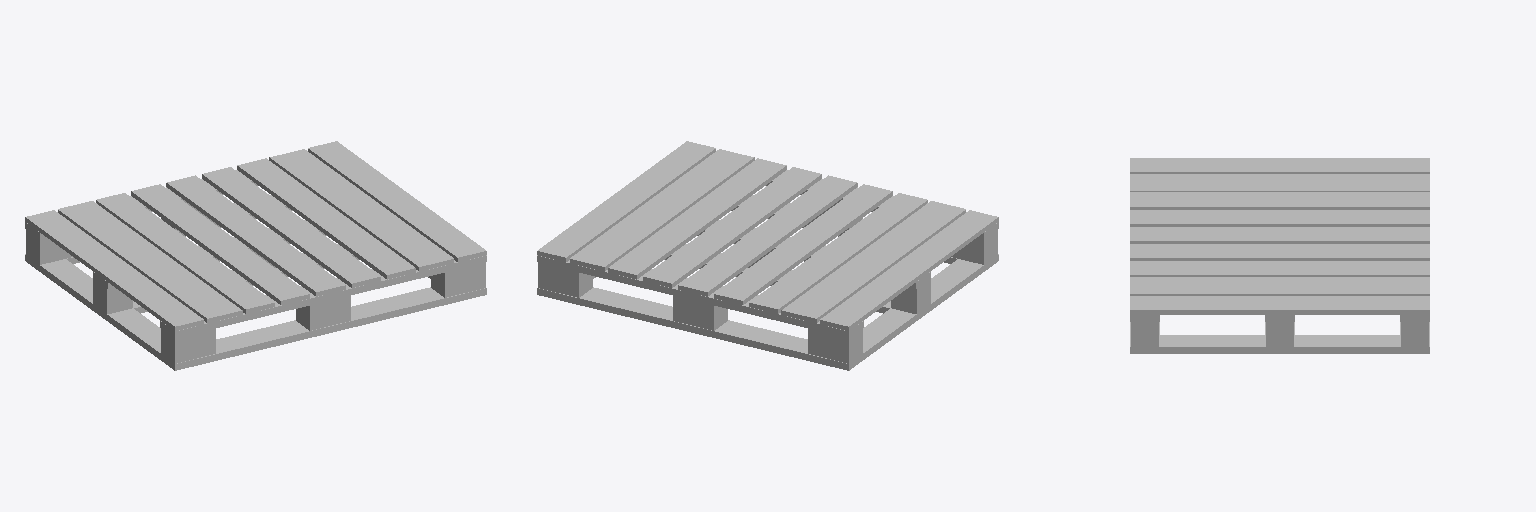
3 renders of one model, left to right at view 1: azimuth 30°, elevation 25°; view 2: azimuth 150°, elevation 25°; view 3: azimuth 270°, elevation 25°, orthographic.
Parts seen in each view (by area): view 1: ImportedMesh2; view 2: ImportedMesh2; view 3: ImportedMesh2.
Part boxes in pixels (bbox=[...]): ImportedMesh2: bbox=[25, 141, 486, 370]; ImportedMesh2: bbox=[537, 141, 998, 370]; ImportedMesh2: bbox=[1130, 158, 1429, 353].
Size of the model in its own units: 1.2 by 0.1625 by 1.